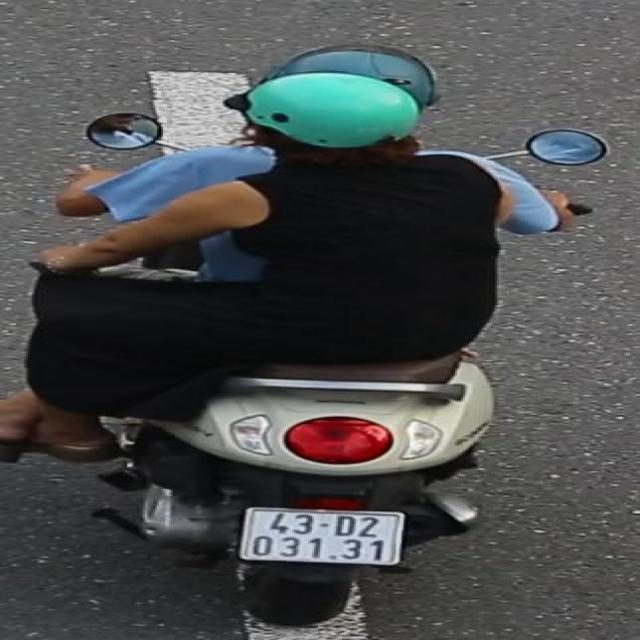LP: (237, 504, 416, 571)
helmet: (208, 72, 440, 182), (278, 45, 443, 96)
